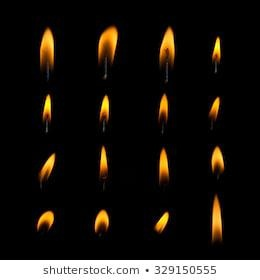fire: (96, 22, 119, 73), (158, 26, 177, 80), (37, 26, 55, 80), (209, 192, 222, 243), (37, 151, 55, 185), (208, 143, 225, 178), (157, 145, 170, 185), (156, 91, 169, 130), (97, 93, 111, 128), (40, 92, 52, 131), (210, 34, 222, 69), (98, 144, 109, 182), (208, 95, 221, 126)
